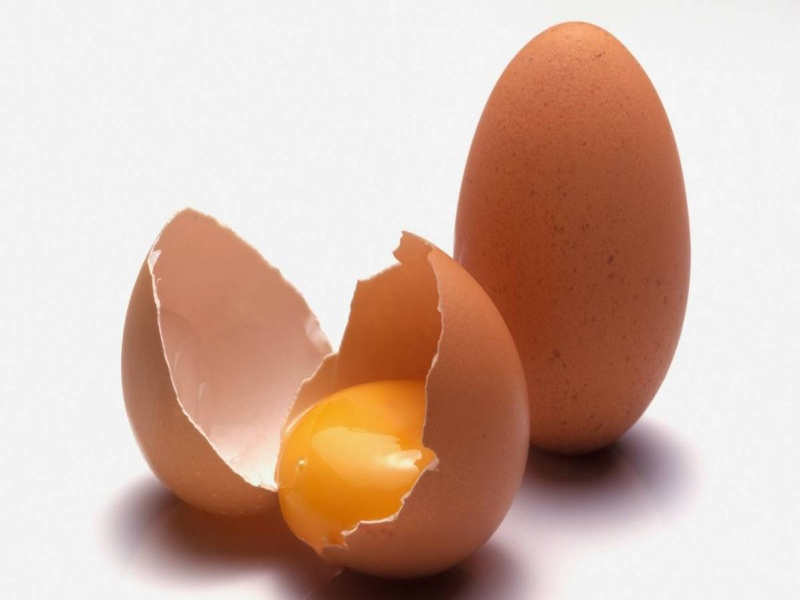Huevo: (119, 204, 532, 585), (454, 20, 691, 461)
